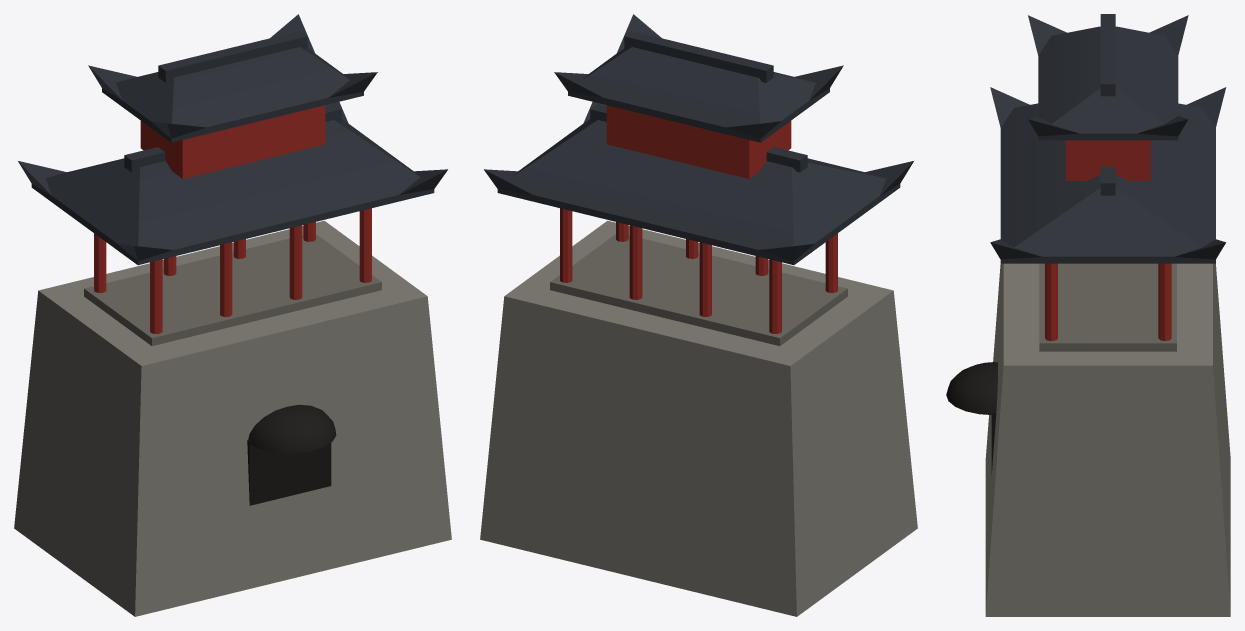
File: gate.glb
3 views of the same model, side by side, from view 1: azimuth 30°, elevation 25°; view 2: azimuth 150°, elevation 25°; view 3: azimuth 270°, elevation 25° (orthographic).
Parts seen in each view (by area): view 1: Gate; view 2: Gate; view 3: Gate.
Part boxes in pixels (x1,y1,x2,y2): Gate: [14, 14, 451, 616]; Gate: [480, 14, 917, 616]; Gate: [946, 14, 1230, 616].
Bounding box in the file's own units: 12.4 × 18.07 × 9.52.
